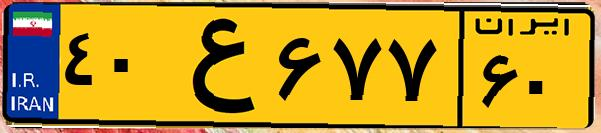0: (525, 38, 570, 115), (110, 28, 158, 98)
4: (57, 26, 110, 100)
6: (270, 28, 330, 110), (475, 38, 525, 113)
7: (385, 28, 445, 110), (330, 28, 385, 110)
ع: (158, 12, 270, 120)
